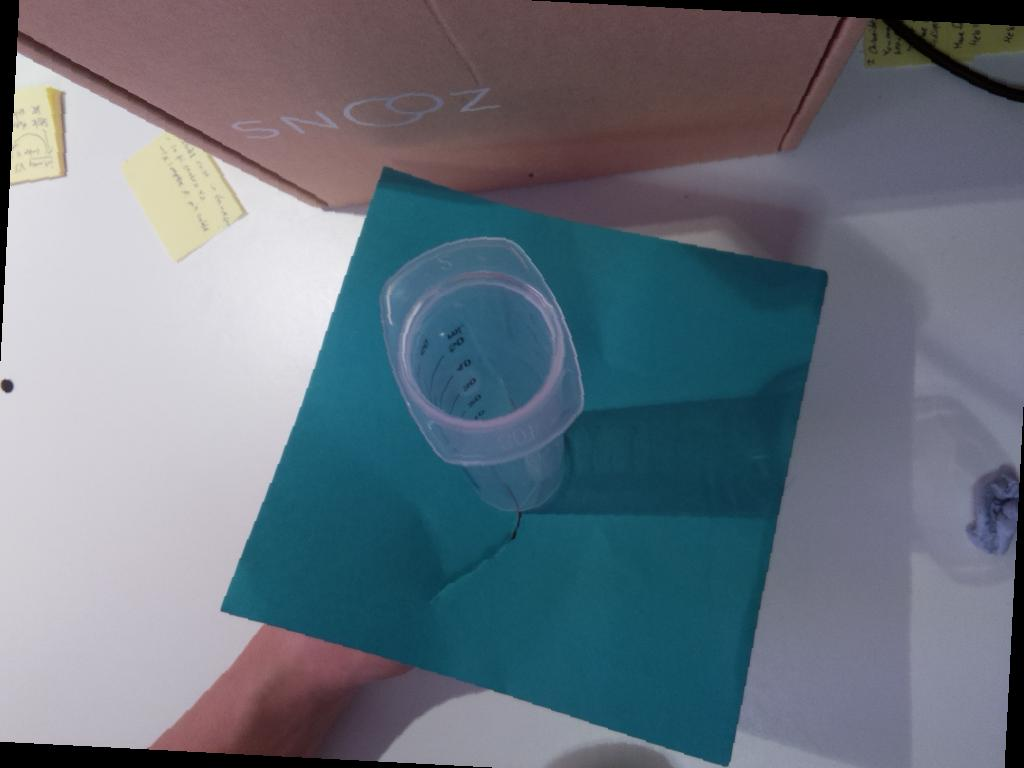clean: (377, 232, 586, 470)
